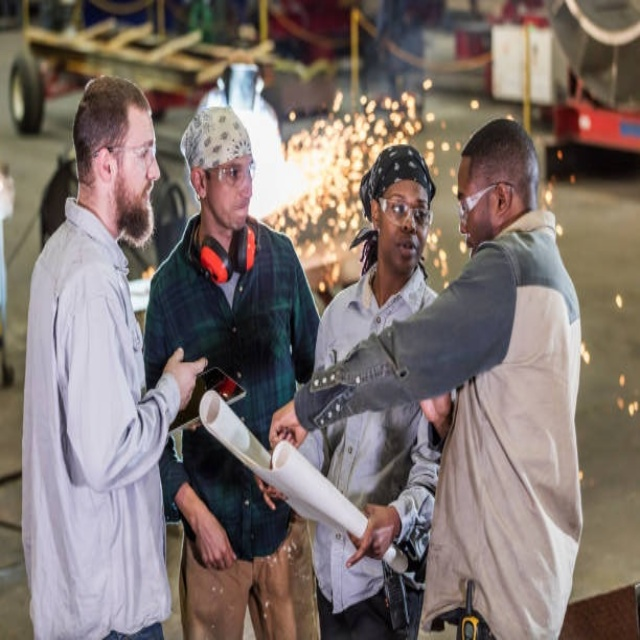Gafas: (458, 182, 514, 218), (92, 141, 156, 167), (379, 198, 432, 229), (202, 161, 255, 186)
Sin_guantes: (340, 500, 391, 566), (191, 505, 239, 571), (169, 342, 208, 413), (267, 403, 302, 449)
Sin_mascara: (131, 176, 159, 216), (392, 232, 420, 265), (227, 191, 253, 226), (458, 226, 478, 264)
